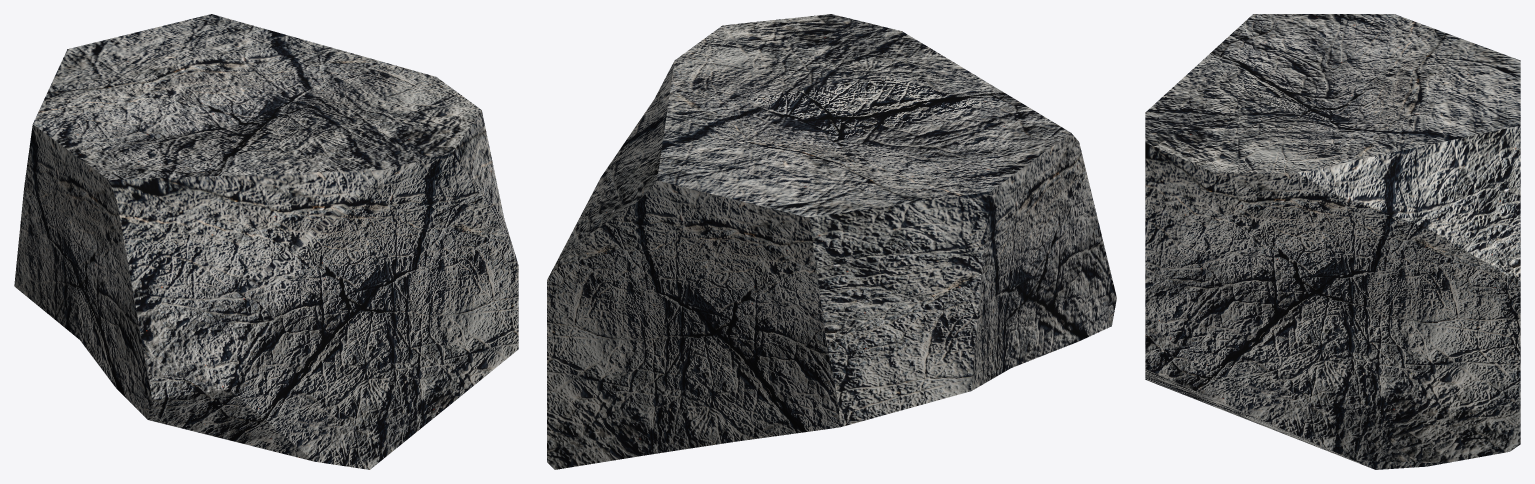
The model's file is Rook_001.fbx.
The picture shows the model from 3 angles, left to right: view 1: azimuth 30°, elevation 25°; view 2: azimuth 150°, elevation 25°; view 3: azimuth 270°, elevation 25°; orthographic projection. The views are drawn at different scales.
Parts seen in each view (by area): view 1: Rook_001; view 2: Rook_001; view 3: Rook_001.
Part boxes in pixels (x1,y1,x2,y2): Rook_001: (14,14,518,469); Rook_001: (547,14,1116,469); Rook_001: (1145,14,1520,469).
Bounding box in the file's own units: 208 × 179 × 200.
Materials: 1 (1 with a texture image).
